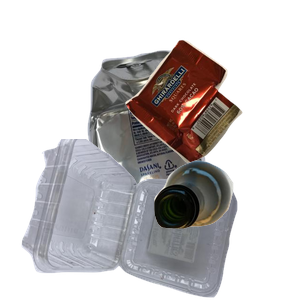glass: (151, 158, 300, 300)
metal: (85, 48, 300, 228)
plastic: (19, 139, 249, 300)
trash: (123, 37, 300, 192)
